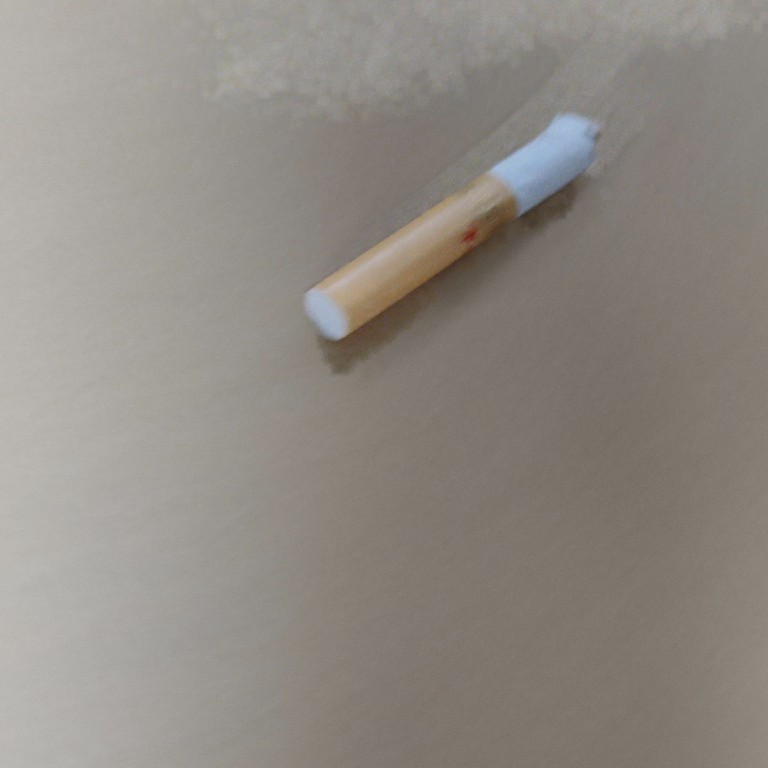cigarette: (298, 108, 607, 348)
